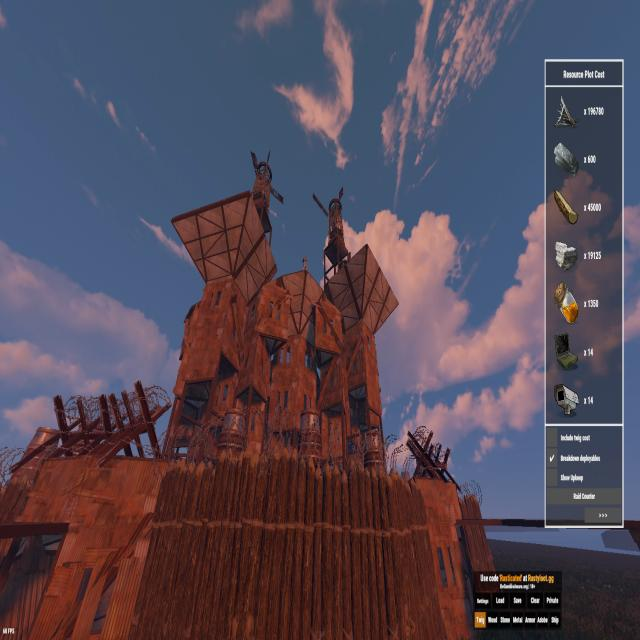Player: (302, 253, 308, 271)
